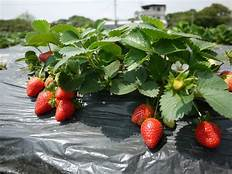Fresa: (192, 116, 225, 151), (139, 116, 166, 152), (55, 98, 79, 125), (34, 88, 56, 117)
